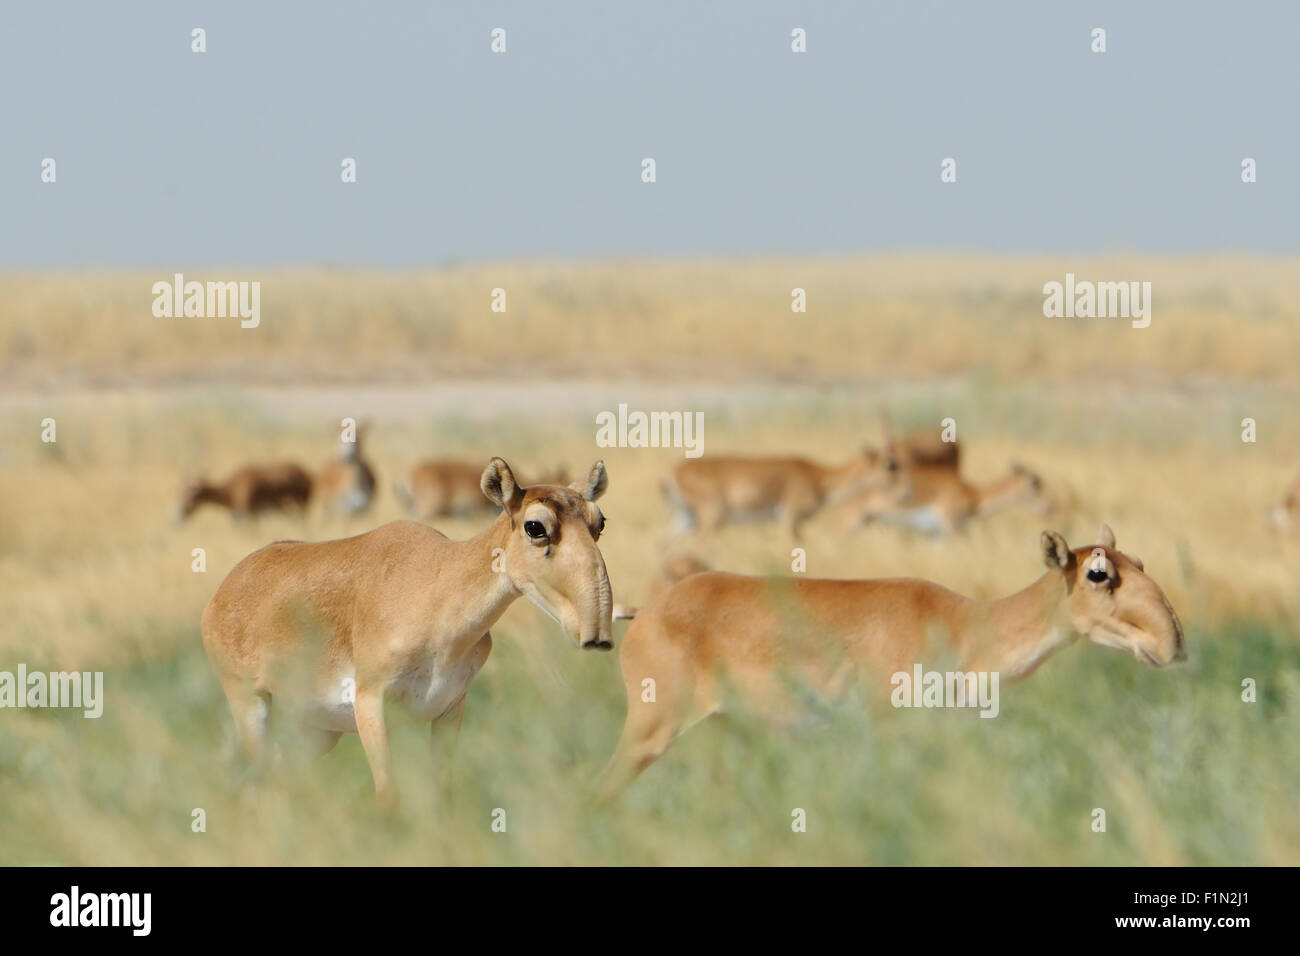saiga: (200, 457, 638, 796)
